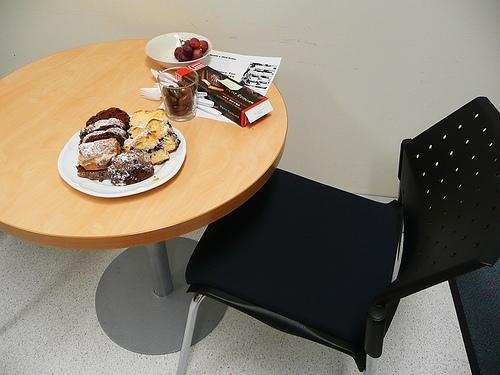grape: (199, 40, 209, 55), (182, 44, 194, 56), (178, 51, 190, 62), (192, 49, 203, 60), (190, 38, 200, 48), (174, 47, 182, 59)
